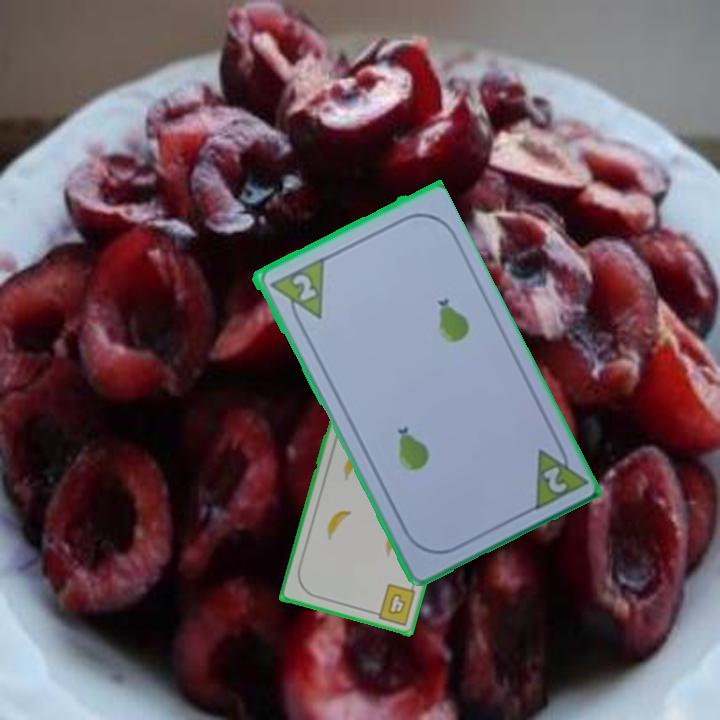2p: (527, 435, 588, 514), (265, 254, 327, 330)
4b: (368, 580, 419, 628)
